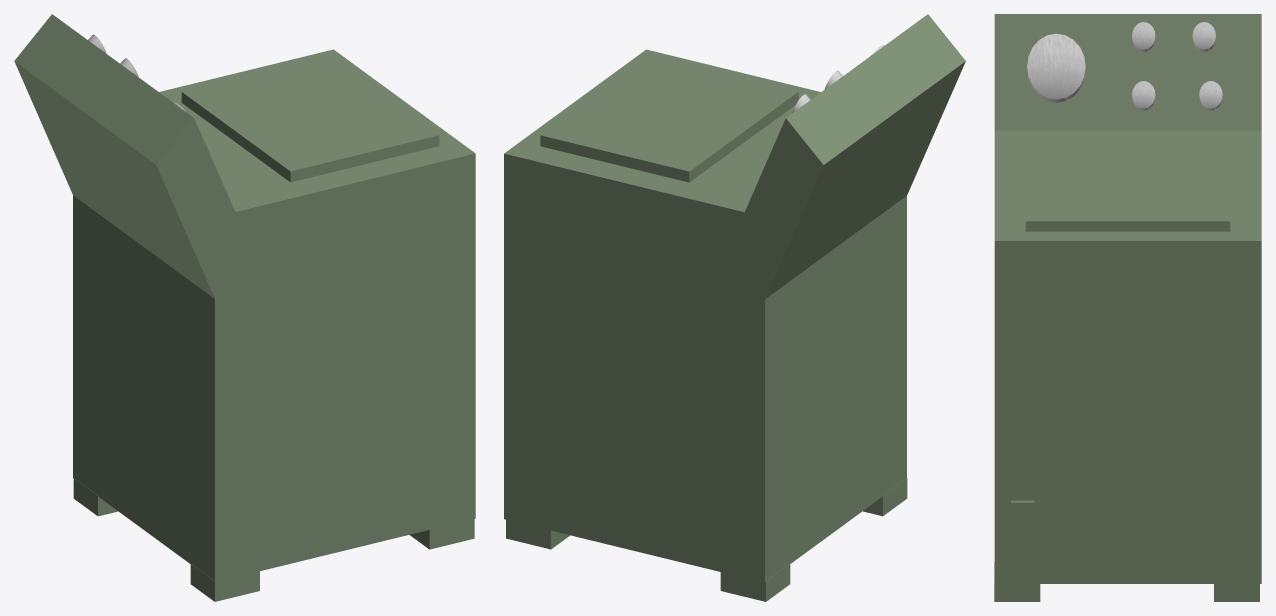
Rendered from lavadora2.obj.
3 renders of one model, left to right at view 1: azimuth 30°, elevation 25°; view 2: azimuth 150°, elevation 25°; view 3: azimuth 270°, elevation 25°, orthographic. The views are drawn at different scales.
Size of the model in its own units: 7.24 by 10.45 by 5.51.
Materials: 4 (4 with a texture image).
